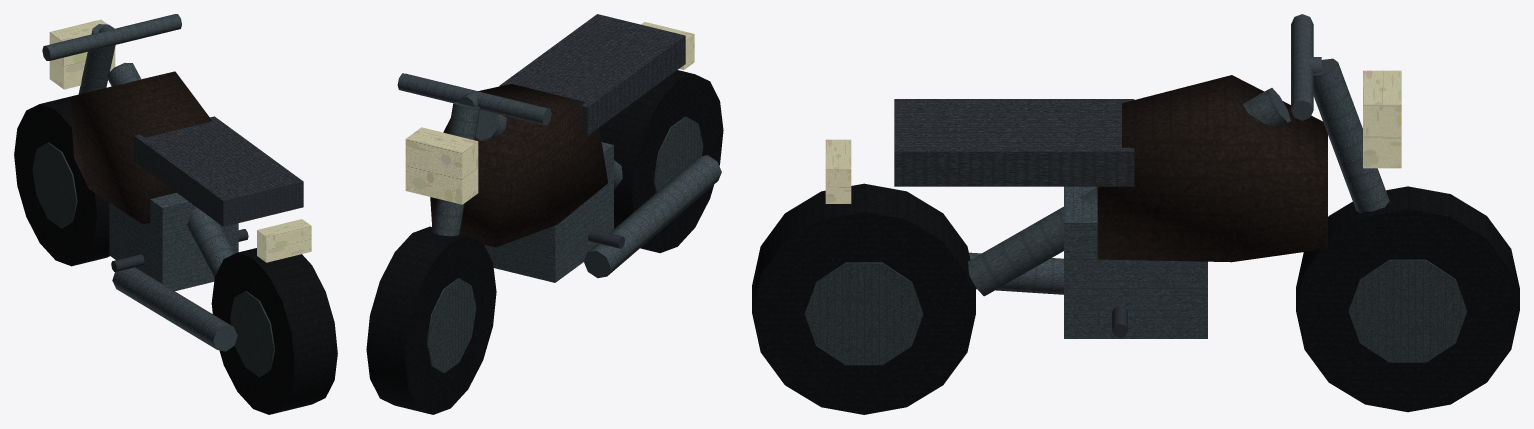
File: motorbike_original.glb
The picture shows the model from 3 angles, left to right: view 1: azimuth 30°, elevation 25°; view 2: azimuth 150°, elevation 25°; view 3: azimuth 270°, elevation 25°; orthographic projection. The views are drawn at different scales.
Parts seen in each view (by area): view 1: _MeshInstance3D_60, _MeshInstance3D_66, _MeshInstance3D_67, _MeshInstance3D_56, _MeshInstance3D_68, _MeshInstance3D_71, _MeshInstance3D_57, _MeshInstance3D_61, _MeshInstance3D_65, _MeshInstance3D_62, _MeshInstance3D_73, _MeshInstance3D_72 (+2 smaller); view 2: _MeshInstance3D_56, _MeshInstance3D_66, _MeshInstance3D_67, _MeshInstance3D_60, _MeshInstance3D_68, _MeshInstance3D_71, _MeshInstance3D_72, _MeshInstance3D_57, _MeshInstance3D_65, _MeshInstance3D_61, _MeshInstance3D_63, _MeshInstance3D_62 (+2 smaller); view 3: _MeshInstance3D_66, _MeshInstance3D_60, _MeshInstance3D_56, _MeshInstance3D_67, _MeshInstance3D_68, _MeshInstance3D_57, _MeshInstance3D_61, _MeshInstance3D_62, _MeshInstance3D_63, _MeshInstance3D_72, _MeshInstance3D_65, _MeshInstance3D_73 (+1 smaller).
Boxes of the visible parts, x1,y1,x2,y2 form: _MeshInstance3D_60: (211, 248, 337, 414); _MeshInstance3D_66: (70, 71, 212, 224); _MeshInstance3D_67: (134, 116, 303, 226); _MeshInstance3D_56: (14, 96, 109, 266); _MeshInstance3D_68: (109, 192, 238, 291); _MeshInstance3D_71: (112, 267, 237, 351); _MeshInstance3D_57: (32, 142, 77, 228); _MeshInstance3D_61: (230, 291, 274, 376); _MeshInstance3D_65: (42, 14, 181, 60); _MeshInstance3D_62: (107, 62, 234, 279); _MeshInstance3D_73: (257, 219, 311, 262); _MeshInstance3D_72: (49, 19, 115, 89); _MeshInstance3D_56: (366, 226, 496, 414); _MeshInstance3D_66: (430, 84, 608, 247); _MeshInstance3D_67: (499, 14, 685, 135); _MeshInstance3D_60: (599, 70, 723, 253); _MeshInstance3D_68: (484, 142, 613, 282); _MeshInstance3D_71: (584, 155, 721, 278); _MeshInstance3D_72: (405, 127, 478, 204); _MeshInstance3D_57: (426, 278, 476, 372); _MeshInstance3D_65: (397, 73, 551, 125); _MeshInstance3D_61: (653, 116, 703, 192); _MeshInstance3D_63: (432, 102, 480, 236); _MeshInstance3D_62: (475, 110, 622, 189); _MeshInstance3D_66: (1097, 75, 1327, 262); _MeshInstance3D_60: (752, 183, 975, 414); _MeshInstance3D_56: (1296, 186, 1519, 412); _MeshInstance3D_67: (894, 99, 1134, 186); _MeshInstance3D_68: (1064, 186, 1207, 338); _MeshInstance3D_57: (1348, 259, 1467, 362); _MeshInstance3D_61: (804, 262, 923, 365); _MeshInstance3D_62: (967, 88, 1290, 296); _MeshInstance3D_63: (1313, 58, 1389, 213); _MeshInstance3D_72: (1363, 70, 1401, 168); _MeshInstance3D_65: (1291, 14, 1313, 120); _MeshInstance3D_73: (825, 139, 851, 203).
Bounding box in the file's own units: 0.64 × 1.18 × 2.4.
Materials: 7 (7 with a texture image).
